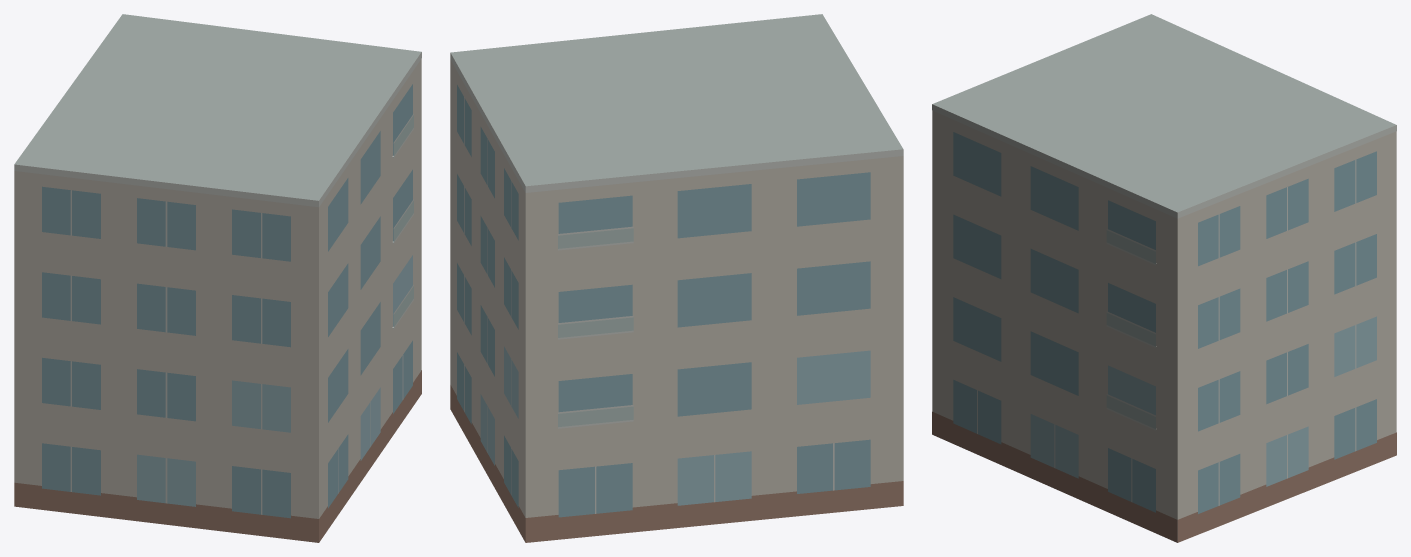
File: survey-upis-32509000.glb
3 views of the same model, side by side, from view 1: azimuth 30°, elevation 25°; view 2: azimuth 150°, elevation 25°; view 3: azimuth 270°, elevation 25° (orthographic). The views are drawn at different scales.
Parts seen in each view (by area): view 1: survey-upis-32509000.tmp; view 2: survey-upis-32509000.tmp; view 3: survey-upis-32509000.tmp.
Boxes of the visible parts, bbox=[...] form: survey-upis-32509000.tmp: bbox=[14, 14, 421, 542]; survey-upis-32509000.tmp: bbox=[450, 14, 903, 542]; survey-upis-32509000.tmp: bbox=[932, 14, 1396, 542].
Bounding box in the file's own units: 16.76 × 13 × 16.58.
